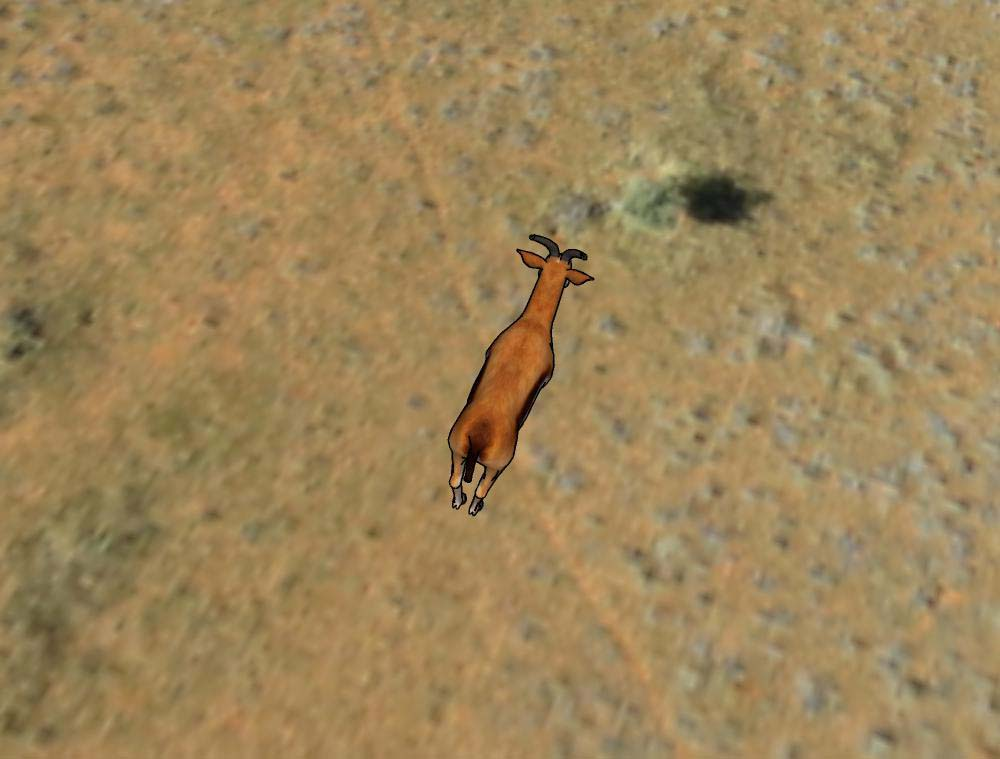springbok: (438, 229, 598, 526)
